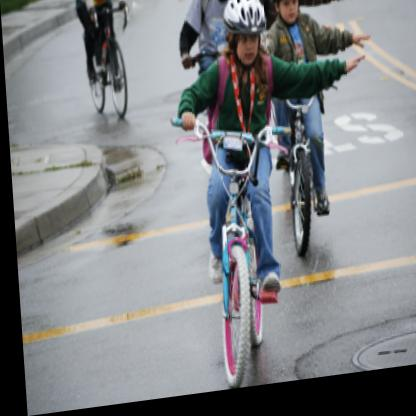With Helmet: (214, 0, 270, 77), (269, 0, 308, 35)
